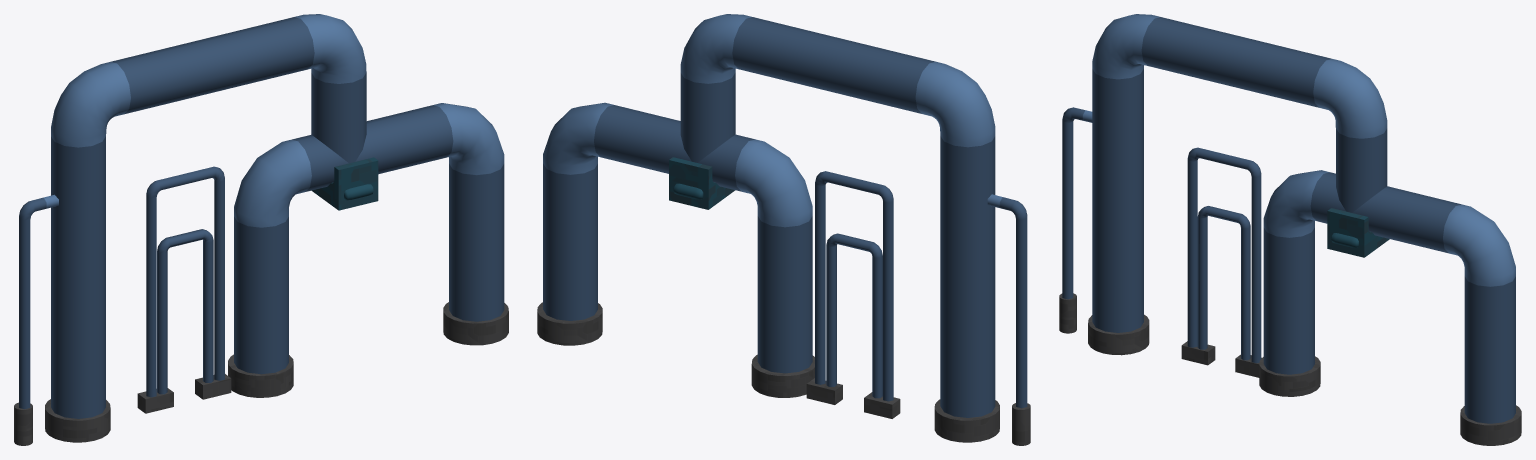
File: Model_Building_01.fbx
The picture shows the model from 3 angles, left to right: view 1: azimuth 30°, elevation 25°; view 2: azimuth 150°, elevation 25°; view 3: azimuth 330°, elevation 25°; orthographic projection. The views are drawn at different scales.
Visible parts, largest first — view 1: Building_01_LOD00; view 2: Building_01_LOD00; view 3: Building_01_LOD00.
Part boxes in pixels (<box>): Building_01_LOD00: <box>14,14,508,445</box>; Building_01_LOD00: <box>537,14,1030,445</box>; Building_01_LOD00: <box>1059,14,1521,445</box>.
Size of what is drawn, in the model's own units: 7066 by 4933 by 1050.
